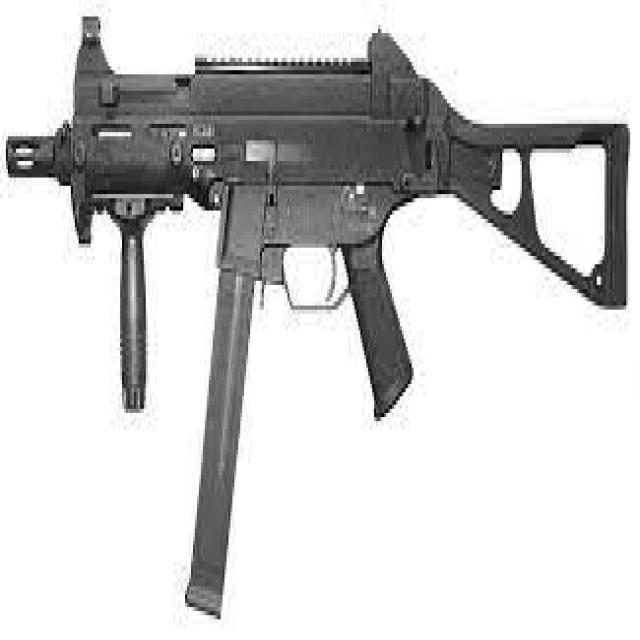Gun: (4, 8, 640, 640)
